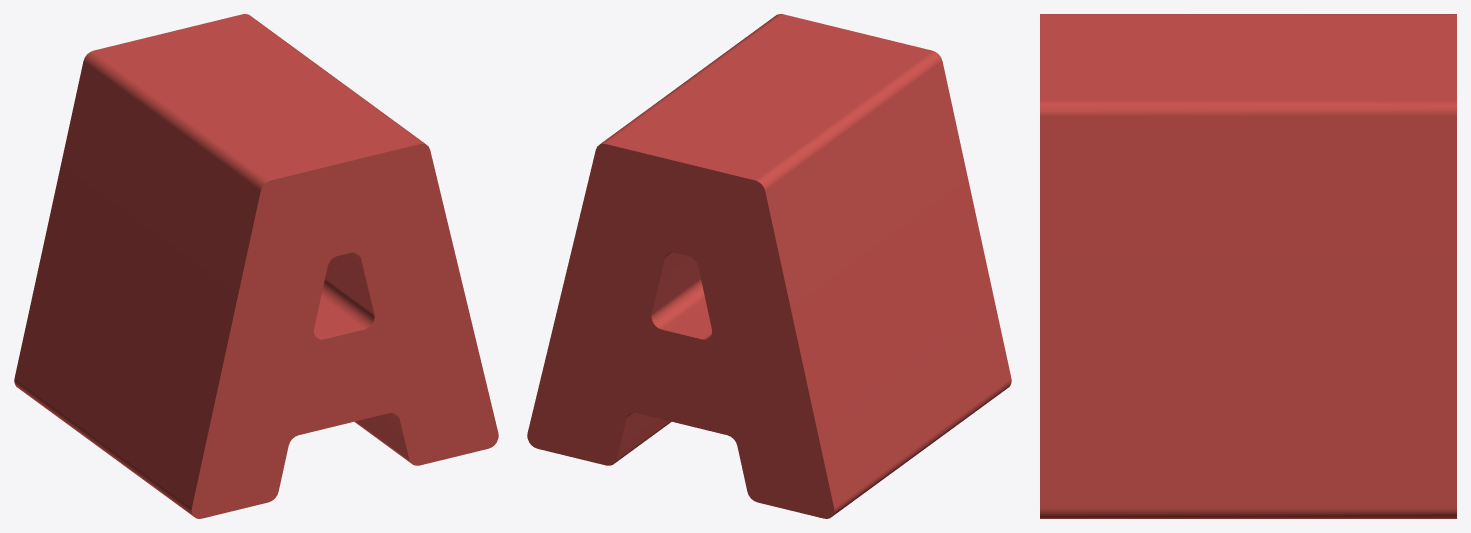
3 views of the same model, side by side, from view 1: azimuth 30°, elevation 25°; view 2: azimuth 150°, elevation 25°; view 3: azimuth 270°, elevation 25° (orthographic). The views are drawn at different scales.
Size of the model in its own units: 50 by 50 by 50.
